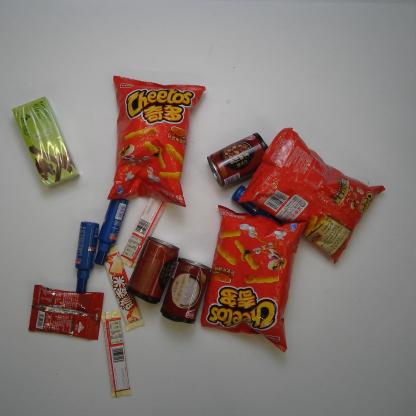Canned Food: (126, 236, 180, 305), (207, 132, 269, 188), (160, 258, 211, 324)
Chocolate: (119, 197, 168, 269), (103, 245, 144, 331), (101, 310, 132, 398)
Instant Drink: (12, 96, 80, 187), (28, 284, 104, 341)
Personal Hygiene: (94, 198, 130, 266), (74, 221, 100, 294), (231, 185, 275, 218)
Puffed Food: (236, 127, 386, 265), (200, 204, 309, 353), (107, 75, 207, 208)
